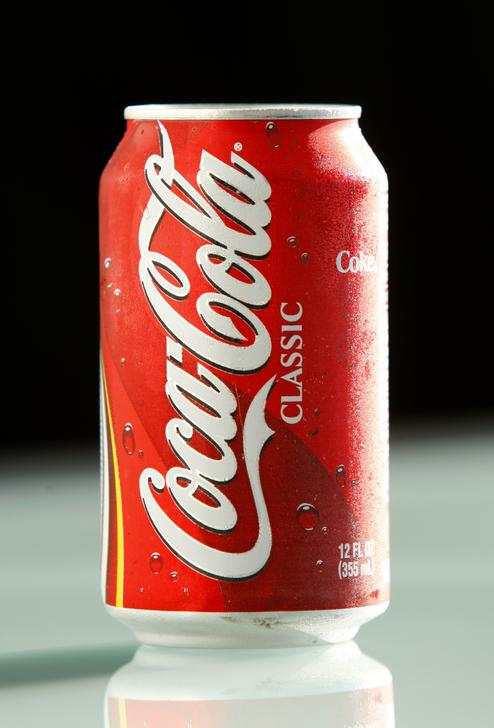coke: (132, 129, 293, 586)
